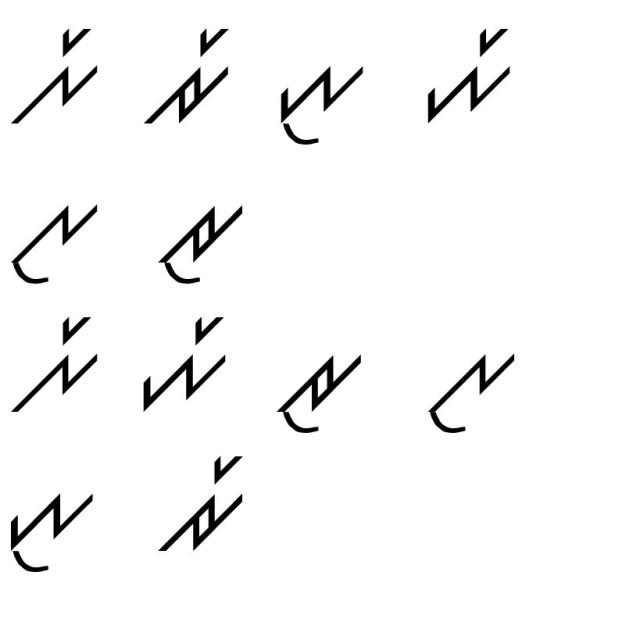lar: (11, 17, 103, 131), (11, 312, 103, 416)
law: (421, 342, 523, 443), (11, 189, 103, 293)
rar: (134, 23, 242, 133), (153, 447, 252, 560)
raw: (267, 342, 373, 439), (150, 194, 249, 294)
yar: (404, 13, 524, 130), (134, 313, 238, 414)
yaw: (263, 48, 375, 151), (5, 480, 101, 574)
